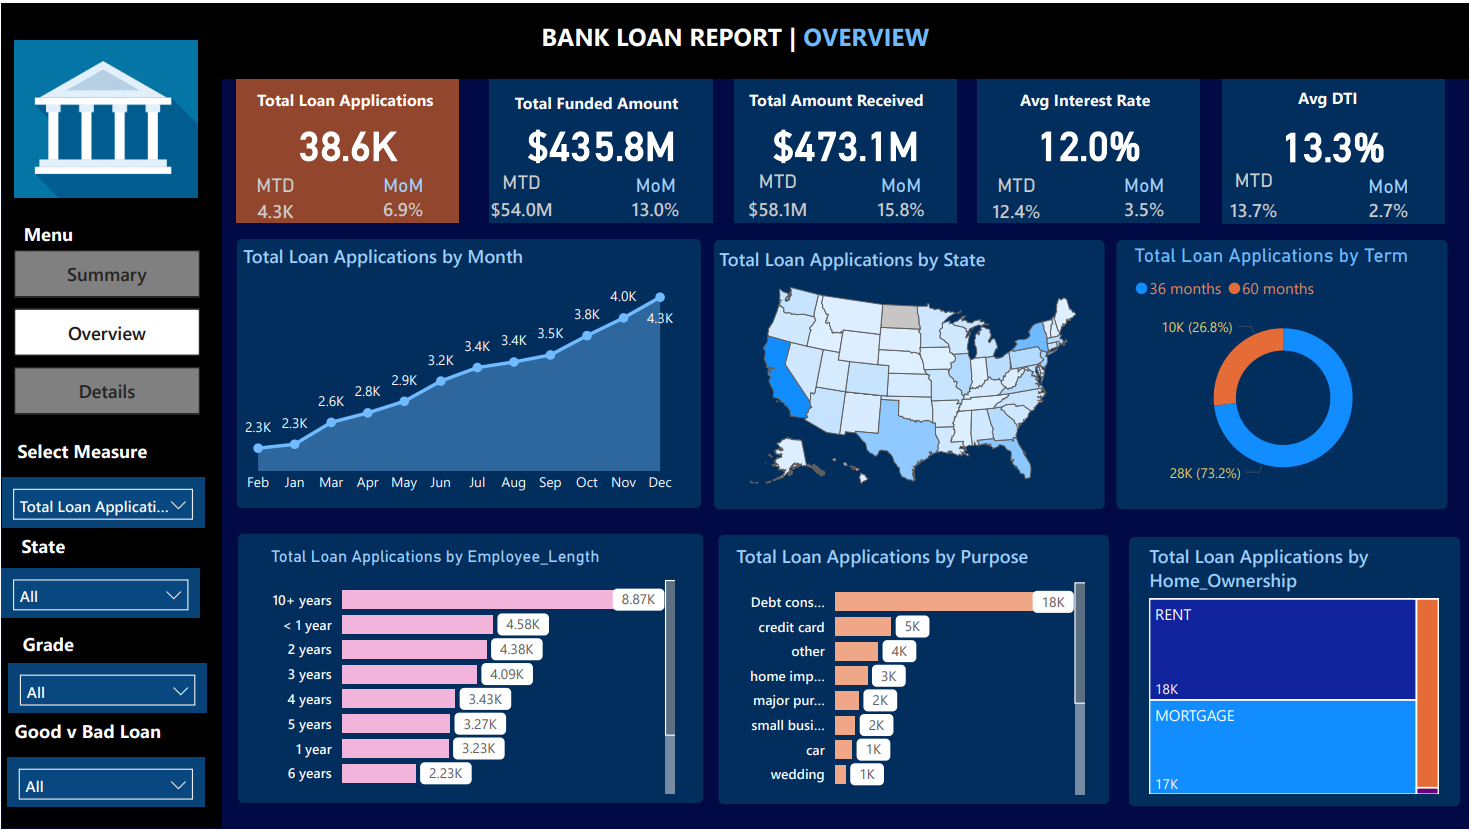

The dashboard page shown, as its layout file describes it:
{"tool":"powerbi","page":{"name":"Overview","canvas":[1280,720],"ordinal":1},"visuals":[{"type":"shape","box":[205.3,63.2,194.2,127.9],"z":0,"group":"g4"},{"type":"shape","box":[425.3,63.2,194.2,127.9],"z":0,"group":"g2"},{"type":"shape","box":[638.7,63.2,194.2,127.9],"z":0,"group":"g3"},{"type":"shape","box":[851.5,63.2,194.2,127.9],"z":0,"group":"g5"},{"type":"shape","box":[1064.5,63.6,194.2,127.9],"z":0,"group":"g6"},{"type":"shape","box":[205.3,205.3,405,235],"z":0},{"type":"shape","box":[0,0,1279.5,55],"z":1000},{"type":"card","fields":{"Values":["bank_loan_data.Total Loan Applications"]},"box":[218.6,85.2,168.1,72.7],"z":1000,"group":"g4"},{"type":"card","fields":{"Values":["bank_loan_data.Total Funded Amount"]},"box":[438.6,85.2,168.1,72.7],"z":1000,"group":"g2"},{"type":"card","fields":{"Values":["bank_loan_data.Total Amount Received"]},"box":[652,85.2,168.1,72.7],"z":1000,"group":"g3"},{"type":"card","fields":{"Values":["bank_loan_data.Average INterest Rate"]},"box":[864.8,85.2,168.1,72.7],"z":1000,"group":"g5"},{"type":"card","fields":{"Values":["bank_loan_data.Avg DTI"]},"box":[1077.8,85.6,168.1,72.7],"z":1000,"group":"g6"},{"type":"shape","box":[0,53,192.3,666.3],"z":2000},{"type":"textbox","box":[1074.4,67.2,169.6,30.3],"z":2000,"group":"g6"},{"type":"textbox","box":[218.5,69,172.6,30.3],"z":2000,"group":"g4"},{"type":"textbox","box":[646.6,69.5,172.1,31.6],"z":2000,"group":"g3"},{"type":"textbox","box":[859.4,69.5,172.1,31.6],"z":2000,"group":"g5"},{"type":"textbox","box":[431.6,72,174.1,28.8],"z":2000,"group":"g2"},{"type":"textbox","box":[501.2,6.1,396.7,48.5],"z":3000},{"type":"card","title":"MTD","fields":{"Values":["bank_loan_data.MTD DTI"]},"box":[1066.6,143.4,52.1,56.8],"z":3000,"group":"g6"},{"type":"card","title":"MTD","fields":{"Values":["bank_loan_data.MTD Total Received Amount"]},"box":[639.1,145.1,75.8,53.7],"z":3000,"group":"g3"},{"type":"card","title":"MTD","fields":{"Values":["bank_loan_data.MTD Funded Amount"]},"box":[418,146.6,71.1,42.6],"z":3000,"group":"g2"},{"type":"card","title":"MTD","fields":{"Values":["bank_loan_data.MTD Loan Applications"]},"box":[213.2,148.5,52.1,42.6],"z":3000,"group":"g4"},{"type":"card","title":"MTD","fields":{"Values":["bank_loan_data.MTD Interest Rate"]},"box":[859.4,148.5,52.1,42.6],"z":3000,"group":"g5"},{"type":"group","id":"g1","title":"Group 1","box":[205.3,63.2,194.2,132.6],"z":4000},{"type":"card","title":"MoM","fields":{"Values":["bank_loan_data.MoM Loan Application"]},"box":[315.8,148.5,69.5,47.4],"z":4000,"group":"g4"},{"type":"card","title":"MoM","fields":{"Values":["bank_loan_data.MoM Funded Amount"]},"box":[535.8,148.5,69.5,47.4],"z":4000,"group":"g2"},{"type":"card","title":"MoM","fields":{"Values":["bank_loan_data.MoM Ttotal Amount Received"]},"box":[749.2,148.5,69.5,47.4],"z":4000,"group":"g3"},{"type":"card","title":"MoM","fields":{"Values":["bank_loan_data.MoM Interest Rate"]},"box":[962,148.5,69.5,47.4],"z":4000,"group":"g5"},{"type":"card","title":"MoM","fields":{"Values":["bank_loan_data.MoM DTI"]},"box":[1175,148.9,69.5,47.4],"z":4000,"group":"g6"},{"type":"group","id":"g2","title":"Group 1","box":[418,63.2,201.5,132.6],"z":5000},{"type":"group","id":"g3","title":"Group 1","box":[638.7,63.2,194.2,135.5],"z":6000},{"type":"group","id":"g4","title":"Group 2","box":[205.3,63.2,194.2,132.6],"z":6003,"group":"g1"},{"type":"group","id":"g5","title":"Group 1","box":[851.5,63.2,194.2,132.6],"z":7000},{"type":"group","id":"g6","title":"Group 1","box":[1064.5,63.6,194.2,136.6],"z":8000},{"type":"textbox","box":[784.7,219.5,168.9,30],"z":9000},{"type":"textbox","box":[205.3,492.6,129.5,37.9],"z":10000},{"type":"slicer","fields":{"Values":["bank_loan_data.Good v Bad Loan"]},"box":[4.5,657.2,172.6,42.4],"z":11000},{"type":"textbox","box":[23.7,617.4,104.2,7.9],"z":12000},{"type":"shape","box":[0.5,10,1279.5,55],"z":13000},{"type":"slicer","fields":{"Values":["bank_loan_data.address_state"]},"box":[0,492.1,172.6,42.4],"z":14000},{"type":"slicer","fields":{"Values":["bank_loan_data.grade"]},"box":[6.1,575.4,172.6,42.4],"z":15000},{"type":"textbox","box":[459.5,9.5,361.6,47.4],"z":16000},{"type":"textbox","box":[0,617.8,151.4,33.3],"z":17000},{"type":"textbox","box":[6.1,542.1,69.7,33.3],"z":18000},{"type":"textbox","box":[1.5,457.3,69.7,33.3],"z":19000},{"type":"shape","box":[620.8,205.9,340.7,234.7],"z":20000},{"type":"shapeMap","fields":{"Value":["bank_loan_data.Total Loan Applications"],"Category":["bank_loan_data.address_state"]},"box":[620.8,212,348.3,221.1],"z":21000},{"type":"shape","box":[972.1,205.9,289.2,234.7],"z":22000},{"type":"donutChart","fields":{"Y":["bank_loan_data.Total Loan Applications"],"Category":["bank_loan_data.term"]},"box":[982.7,209,269.5,219.6],"z":23000},{"type":"shape","box":[205.9,461.8,405.8,234.7],"z":24000},{"type":"clusteredBarChart","title":"Total Loan Applications by Employee_Length","fields":{"Y":["bank_loan_data.Total Loan Applications"],"Category":["bank_loan_data.emp_length"]},"box":[230.2,473.9,361.9,219.6],"z":25000},{"type":"shape","box":[625.4,463.3,340.7,234.7],"z":26000},{"type":"clusteredBarChart","title":"Total Loan Applications by Purpose","fields":{"Y":["bank_loan_data.Total Loan Applications"],"Category":["bank_loan_data.purpose"]},"box":[636,470.9,313.4,224.1],"z":27000},{"type":"shape","box":[982.7,464.9,289.2,234.7],"z":28000},{"type":"treemap","fields":{"Values":["bank_loan_data.Total Loan Applications"],"Group":["bank_loan_data.home_ownership"]},"box":[996.3,470.9,262,222.6],"z":29000},{"type":"pageNavigator","box":[10.6,215,162,145.4],"z":30000},{"type":"image","box":[6.1,3,169.6,195.3],"z":31000},{"type":"textbox","box":[6.1,184.7,69.7,33.3],"z":32000},{"type":"areaChart","fields":{"Y":["bank_loan_data.Total Loan Applications"],"Category":["Date Table.Month"]},"box":[205.9,209,386.1,227.1],"z":33000},{"type":"slicer","fields":{"Values":["Select Measure.Select Measure"]},"box":[0,413.4,177.2,43.9],"z":34000},{"type":"textbox","box":[0,374,140.8,39.4],"z":35000}]}

Visuals, with their boxes in screenshot pixels (x1, y1, x2, y2), scaled from the page's 1280x720 canvas onto the 1470x831 screenshot:
shape: left=236, top=73, right=459, bottom=221
shape: left=488, top=73, right=711, bottom=221
shape: left=734, top=73, right=957, bottom=221
shape: left=978, top=73, right=1201, bottom=221
shape: left=1223, top=73, right=1446, bottom=221
shape: left=236, top=237, right=701, bottom=508
shape: left=0, top=0, right=1469, bottom=63
card - bank_loan_data.Total Loan Applications: left=251, top=98, right=444, bottom=182
card - bank_loan_data.Total Funded Amount: left=504, top=98, right=697, bottom=182
card - bank_loan_data.Total Amount Received: left=749, top=98, right=942, bottom=182
card - bank_loan_data.Average INterest Rate: left=993, top=98, right=1186, bottom=182
card - bank_loan_data.Avg DTI: left=1238, top=99, right=1431, bottom=183
shape: left=0, top=61, right=221, bottom=830
textbox: left=1234, top=78, right=1429, bottom=113
textbox: left=251, top=80, right=449, bottom=115
textbox: left=743, top=80, right=940, bottom=117
textbox: left=987, top=80, right=1185, bottom=117
textbox: left=496, top=83, right=696, bottom=116
textbox: left=576, top=7, right=1031, bottom=63
"MTD" card: left=1225, top=166, right=1285, bottom=231
"MTD" card: left=734, top=167, right=821, bottom=229
"MTD" card: left=480, top=169, right=562, bottom=218
"MTD" card: left=245, top=171, right=305, bottom=221
"MTD" card: left=987, top=171, right=1047, bottom=221
"Group 1" group: left=236, top=73, right=459, bottom=226
"MoM" card: left=363, top=171, right=442, bottom=226
"MoM" card: left=615, top=171, right=695, bottom=226
"MoM" card: left=860, top=171, right=940, bottom=226
"MoM" card: left=1105, top=171, right=1185, bottom=226
"MoM" card: left=1349, top=172, right=1429, bottom=227
"Group 1" group: left=480, top=73, right=711, bottom=226
"Group 1" group: left=734, top=73, right=957, bottom=229
"Group 2" group: left=236, top=73, right=459, bottom=226
"Group 1" group: left=978, top=73, right=1201, bottom=226
"Group 1" group: left=1223, top=73, right=1446, bottom=231
textbox: left=901, top=253, right=1095, bottom=288
textbox: left=236, top=569, right=384, bottom=612
slicer - bank_loan_data.Good v Bad Loan: left=5, top=759, right=203, bottom=807
textbox: left=27, top=713, right=147, bottom=722
shape: left=1, top=12, right=1469, bottom=75
slicer - bank_loan_data.address_state: left=0, top=568, right=198, bottom=617
slicer - bank_loan_data.grade: left=7, top=664, right=205, bottom=713
textbox: left=528, top=11, right=943, bottom=66
textbox: left=0, top=713, right=174, bottom=751
textbox: left=7, top=626, right=87, bottom=664
textbox: left=2, top=528, right=82, bottom=566
shape: left=713, top=238, right=1104, bottom=509
shapeMap - bank_loan_data.Total Loan Applications x bank_loan_data.address_state: left=713, top=245, right=1113, bottom=500
shape: left=1116, top=238, right=1449, bottom=509
donutChart - bank_loan_data.Total Loan Applications x bank_loan_data.term: left=1129, top=241, right=1438, bottom=495
shape: left=236, top=533, right=702, bottom=804
"Total Loan Applications by Employee_Length" clusteredBarChart: left=264, top=547, right=680, bottom=800
shape: left=718, top=535, right=1110, bottom=806
"Total Loan Applications by Purpose" clusteredBarChart: left=730, top=543, right=1090, bottom=802
shape: left=1129, top=537, right=1461, bottom=807
treemap - bank_loan_data.Total Loan Applications x bank_loan_data.home_ownership: left=1144, top=543, right=1445, bottom=800
pageNavigator: left=12, top=248, right=198, bottom=416
image: left=7, top=3, right=202, bottom=229
textbox: left=7, top=213, right=87, bottom=252
areaChart - bank_loan_data.Total Loan Applications x Date Table.Month: left=236, top=241, right=680, bottom=503
slicer - Select Measure.Select Measure: left=0, top=477, right=204, bottom=528
textbox: left=0, top=432, right=162, bottom=477
